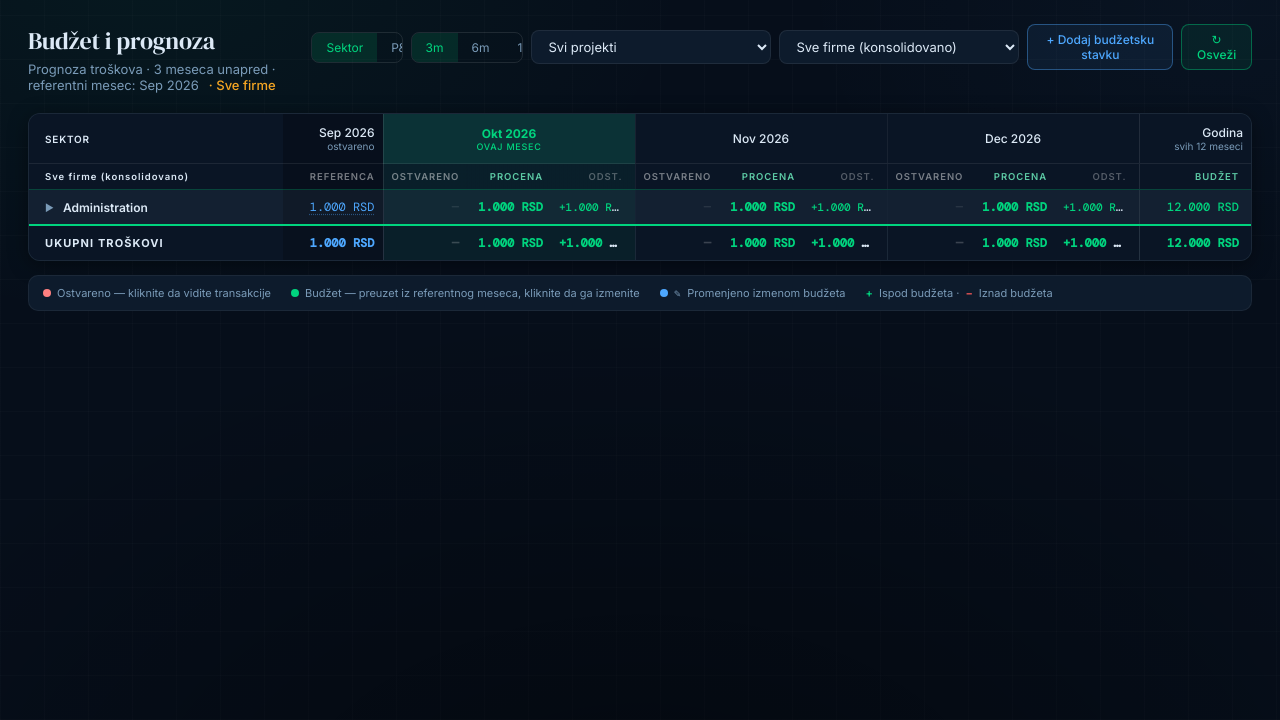
adding a budget line nothing has been spent on › lets a line that is already budgeted be changed, against the group figure
Expected: the text "Ukupni troškovi" is shown, [29,225,283,260]
Click the button "+ Dodaj budžetsku stavku" at (1100, 47), box [1027,24,1173,70]
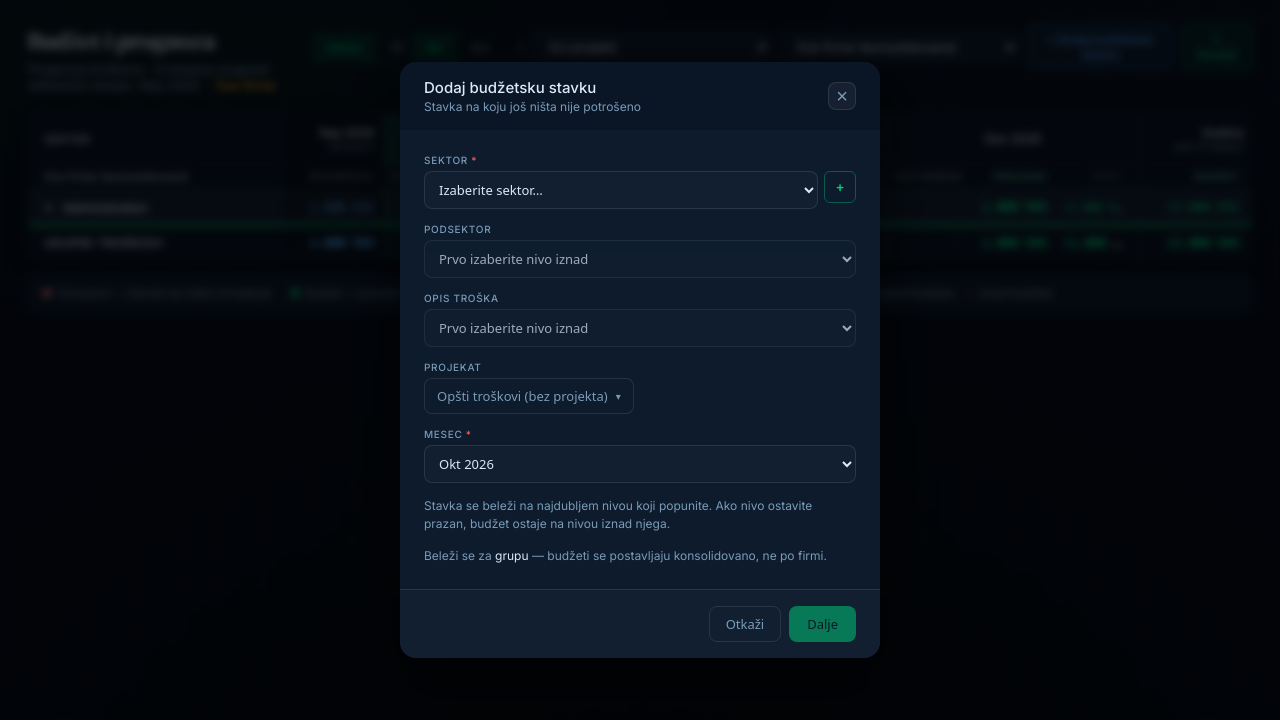
Expected: the text "Dodaj budžetsku stavku" is shown, [424,78,596,97]
Select "Administration" in the dropdown named "Sektor" at (621, 190), box [424,171,818,209]
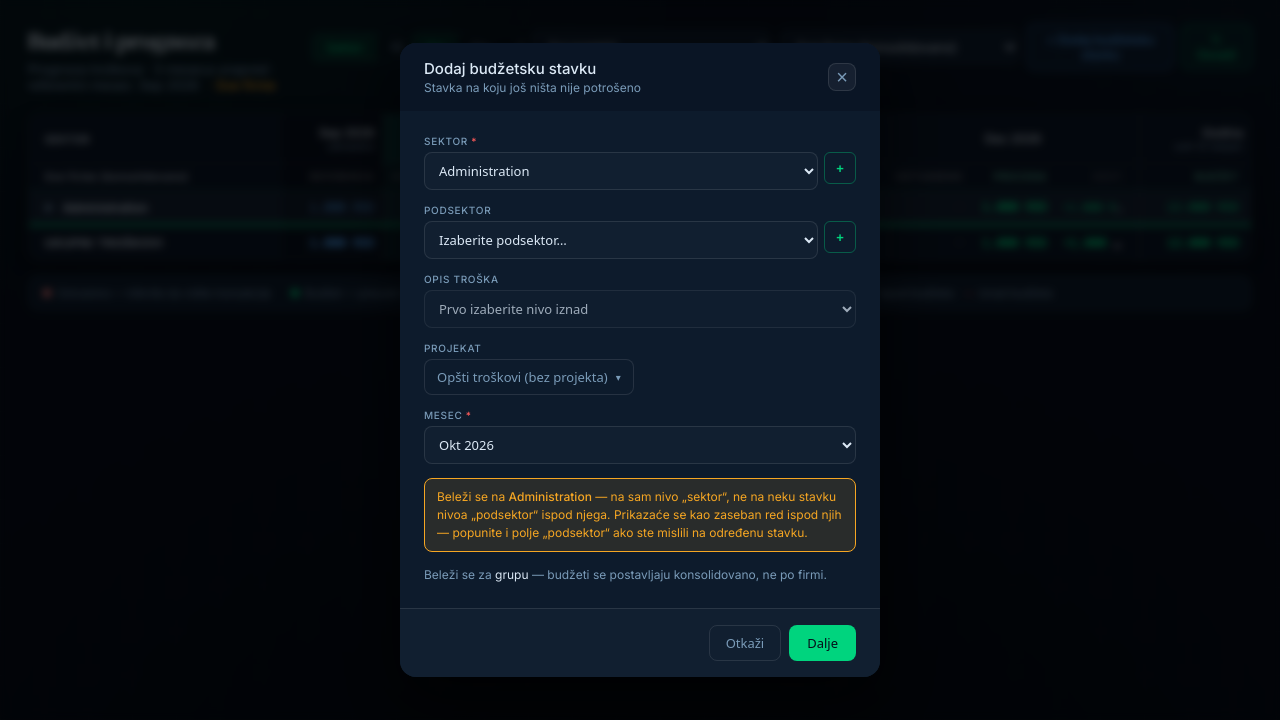
Select "Office" in the dropdown named "Podsektor" at (621, 240), box [424,221,818,259]
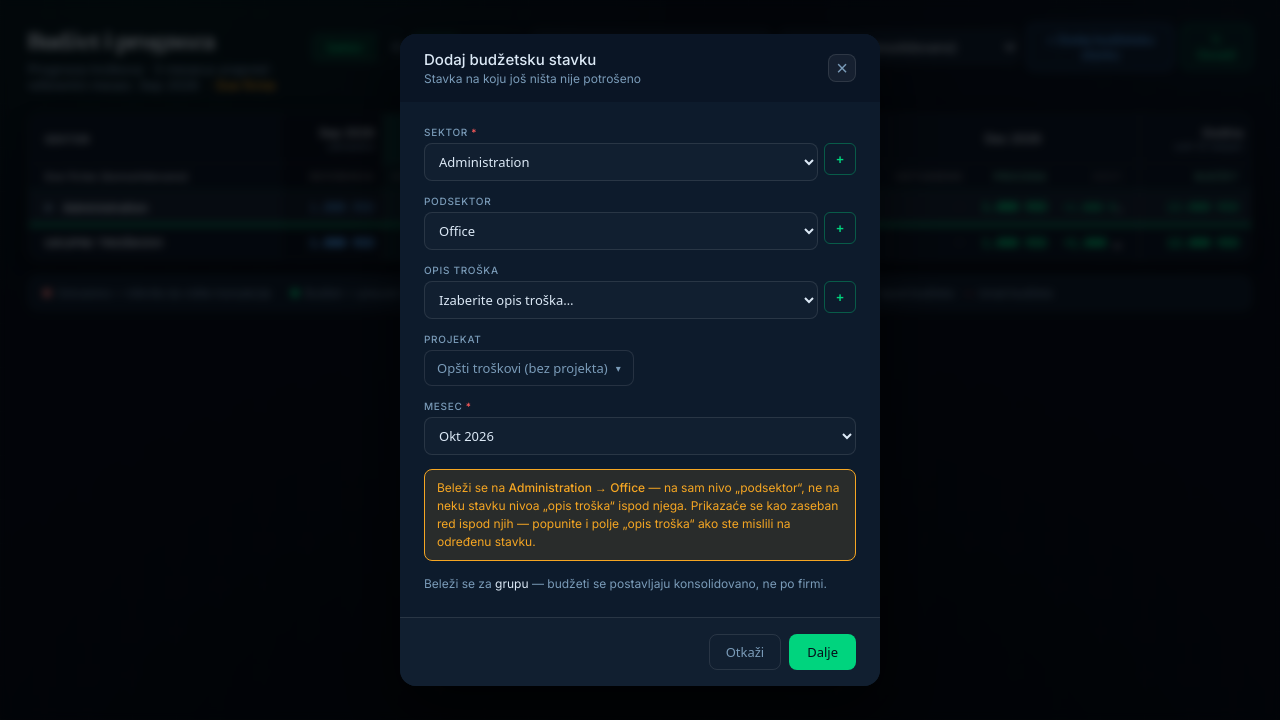
Expected: the button "Dalje" is enabled
Click the button "Dalje" at (823, 652), box [789,634,856,670]
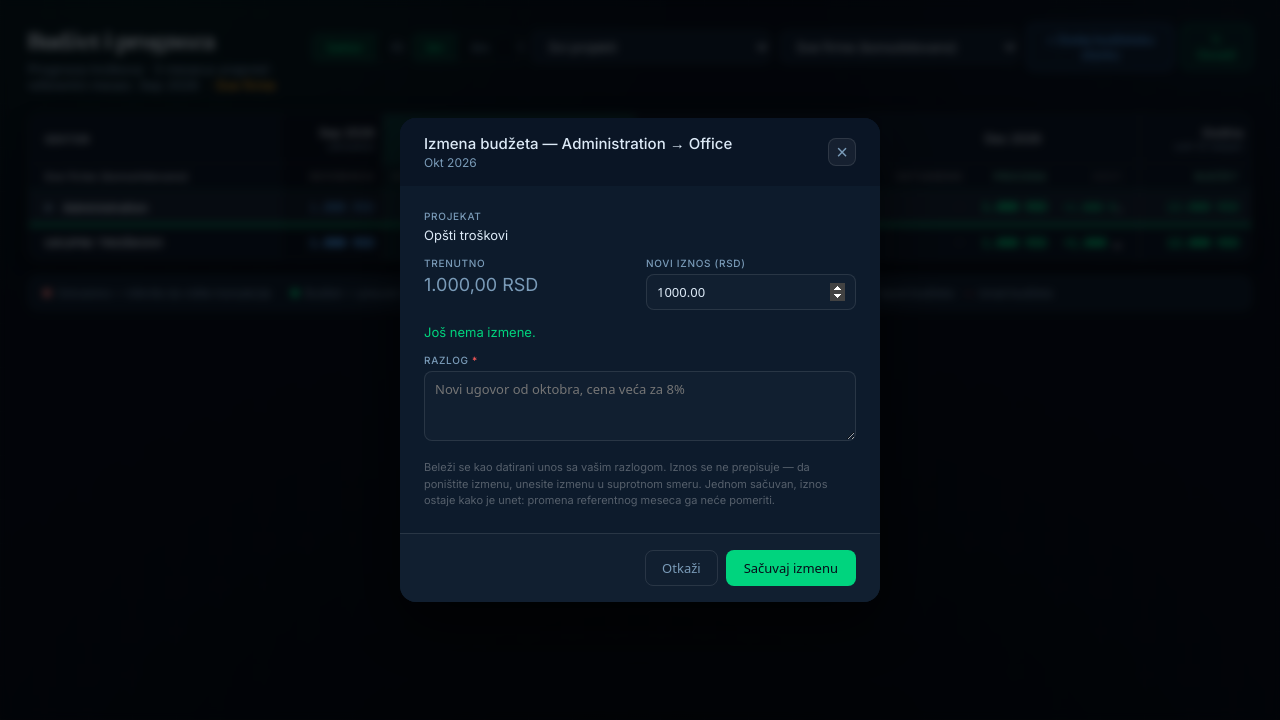
Expected: the text "1.000,00 RSD" is shown, [424,274,538,295]
